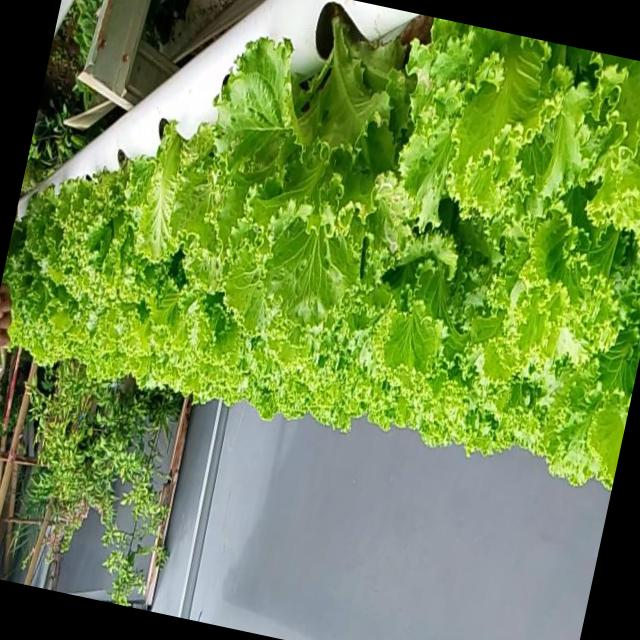Mature: (0, 2, 640, 484), (179, 3, 424, 326), (50, 153, 168, 308)
